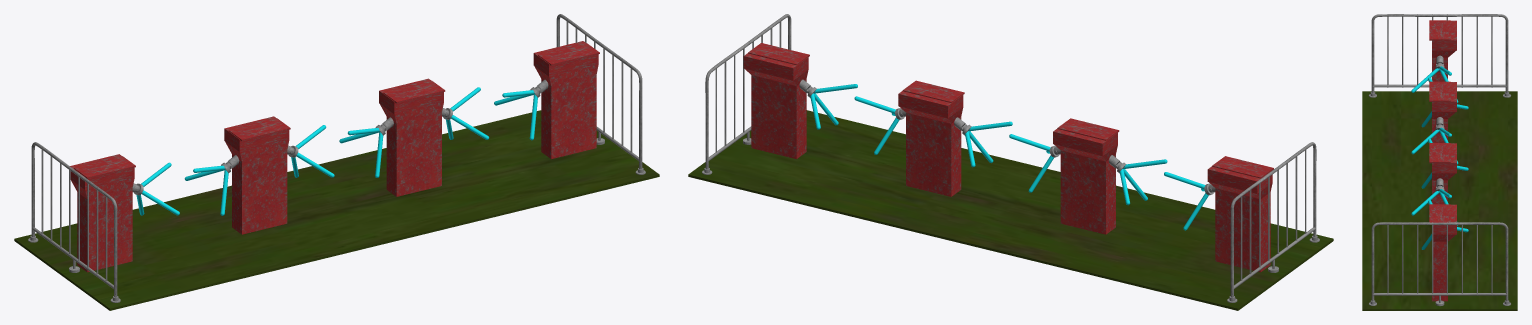
The model's file is Other_Tripod_Turnstile__1823.glb.
3 renders of one model, left to right at view 1: azimuth 30°, elevation 25°; view 2: azimuth 150°, elevation 25°; view 3: azimuth 270°, elevation 25°, orthographic. The views are drawn at different scales.
Visible parts, largest first — view 1: cabinet::base_plate, cabinet::column_shell_-0.81, cabinet::column_shell_+0.81, cabinet::column_shell_+2.43, cabinet::column_shell_-2.43, side_railing_0::frame, cabinet::head_housing_+2.43, cabinet::head_housing_-0.81, cabinet::head_housing_+0.81, side_railing_1::frame, cabinet::head_housing_-2.43, cabinet::flat_top_+0.81 (+7 smaller); view 2: cabinet::base_plate, cabinet::column_shell_-0.81, cabinet::column_shell_+2.43, cabinet::column_shell_+0.81, cabinet::column_shell_-2.43, side_railing_0::frame, cabinet::head_housing_+2.43, cabinet::head_housing_+0.81, cabinet::head_housing_-0.81, cabinet::head_housing_-2.43, side_railing_1::frame, cabinet::flat_top_-0.81 (+3 smaller); view 3: cabinet::base_plate, side_railing_0::frame, side_railing_1::frame, cabinet::column_shell_+2.43, cabinet::flat_top_-0.81, cabinet::flat_top_-2.43, cabinet::flat_top_+0.81, cabinet::flat_top_+2.43, cabinet::head_housing_+0.81, cabinet::head_housing_-2.43, cabinet::head_housing_-0.81, side_railing_1::bottom_rail (+26 smaller).
Part boxes in pixels (box(x1,y1,x2,y2)): cabinet::base_plate: box(14, 110, 659, 310); cabinet::column_shell_-0.81: box(232, 150, 287, 234); cabinet::column_shell_+0.81: box(386, 112, 441, 196); cabinet::column_shell_+2.43: box(541, 74, 596, 159); cabinet::column_shell_-2.43: box(77, 188, 132, 272); side_railing_0::frame: box(31, 142, 117, 297); cabinet::head_housing_+2.43: box(533, 41, 598, 76); cabinet::head_housing_-0.81: box(224, 116, 289, 151); cabinet::head_housing_+0.81: box(379, 78, 443, 113); side_railing_1::frame: box(556, 14, 642, 169); cabinet::head_housing_-2.43: box(70, 154, 134, 189); cabinet::flat_top_+0.81: box(383, 80, 445, 103); cabinet::base_plate: box(688, 110, 1333, 310); cabinet::column_shell_-0.81: box(1060, 150, 1115, 234); cabinet::column_shell_+2.43: box(751, 75, 806, 158); cabinet::column_shell_+0.81: box(906, 113, 961, 196); cabinet::column_shell_-2.43: box(1215, 188, 1270, 272); side_railing_0::frame: box(1230, 142, 1316, 297); cabinet::head_housing_+2.43: box(743, 53, 808, 80); cabinet::head_housing_+0.81: box(898, 91, 963, 118); cabinet::head_housing_-0.81: box(1053, 129, 1117, 155); cabinet::head_housing_-2.43: box(1207, 166, 1272, 193); side_railing_1::frame: box(705, 14, 791, 169); cabinet::flat_top_-0.81: box(1057, 118, 1119, 140); cabinet::base_plate: box(1362, 91, 1517, 310); side_railing_0::frame: box(1371, 14, 1508, 93); side_railing_1::frame: box(1371, 222, 1508, 301); cabinet::column_shell_+2.43: box(1432, 241, 1447, 301); cabinet::flat_top_-0.81: box(1429, 81, 1450, 101); cabinet::flat_top_-2.43: box(1429, 20, 1450, 40); cabinet::flat_top_+0.81: box(1429, 143, 1450, 163); cabinet::flat_top_+2.43: box(1429, 204, 1450, 222); cabinet::head_housing_+0.81: box(1432, 143, 1456, 173); cabinet::head_housing_-2.43: box(1432, 20, 1456, 50); cabinet::head_housing_-0.81: box(1432, 82, 1456, 111); side_railing_1::bottom_rail: box(1373, 293, 1506, 295).
Bounding box in the file's own units: 5.77 × 1.03 × 1.74.
Materials: 6 (6 with a texture image).
